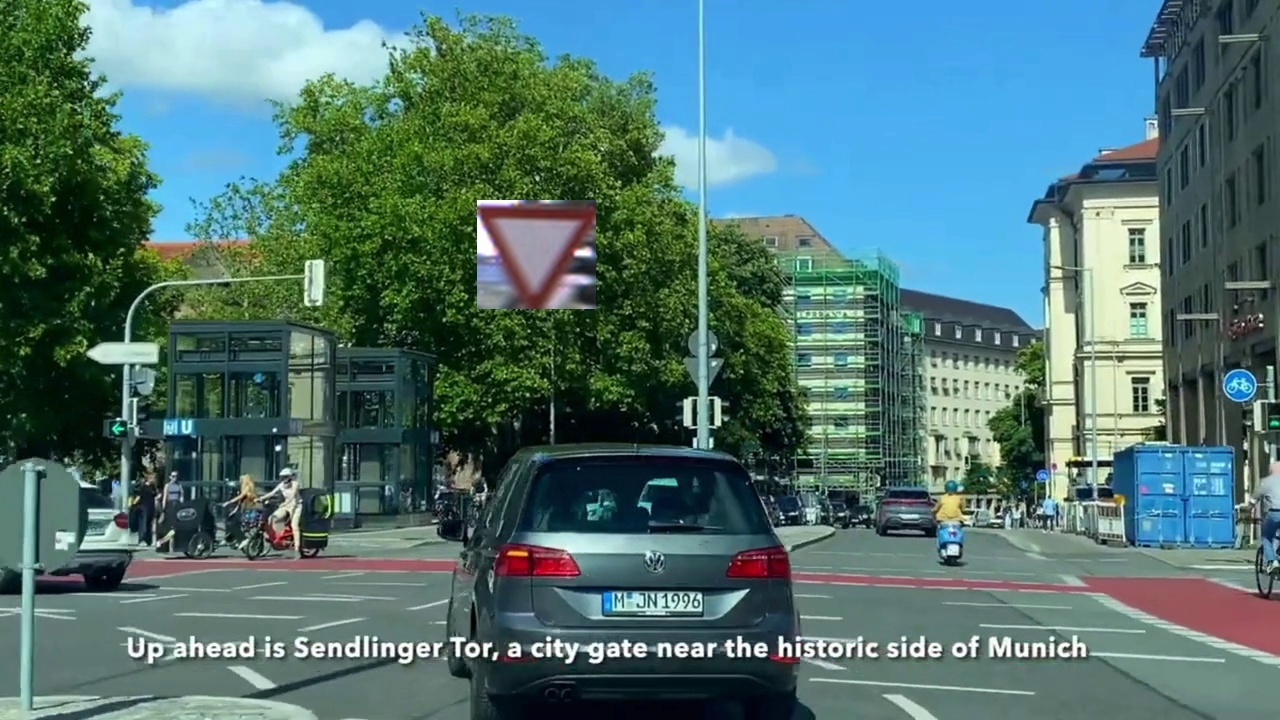Yield: (477, 200, 596, 309)
